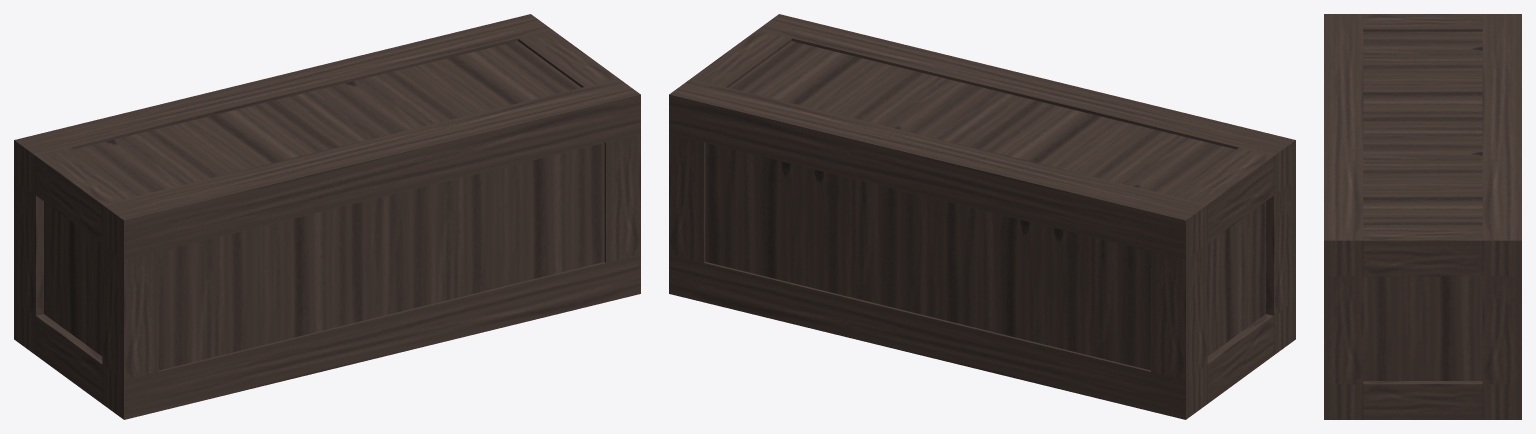
Rendered from ScatterBoxA02.fbx.
The picture shows the model from 3 angles, left to right: view 1: azimuth 30°, elevation 25°; view 2: azimuth 150°, elevation 25°; view 3: azimuth 270°, elevation 25°; orthographic projection. The views are drawn at different scales.
Parts seen in each view (by area): view 1: ScatterBoxA02; view 2: ScatterBoxA02; view 3: ScatterBoxA02.
Boxes of the visible parts, bbox=[...] form: ScatterBoxA02: bbox=[14, 14, 640, 419]; ScatterBoxA02: bbox=[669, 14, 1295, 419]; ScatterBoxA02: bbox=[1324, 14, 1521, 419].
Bounding box in the file's own units: 223 × 82.2 × 82.2.
